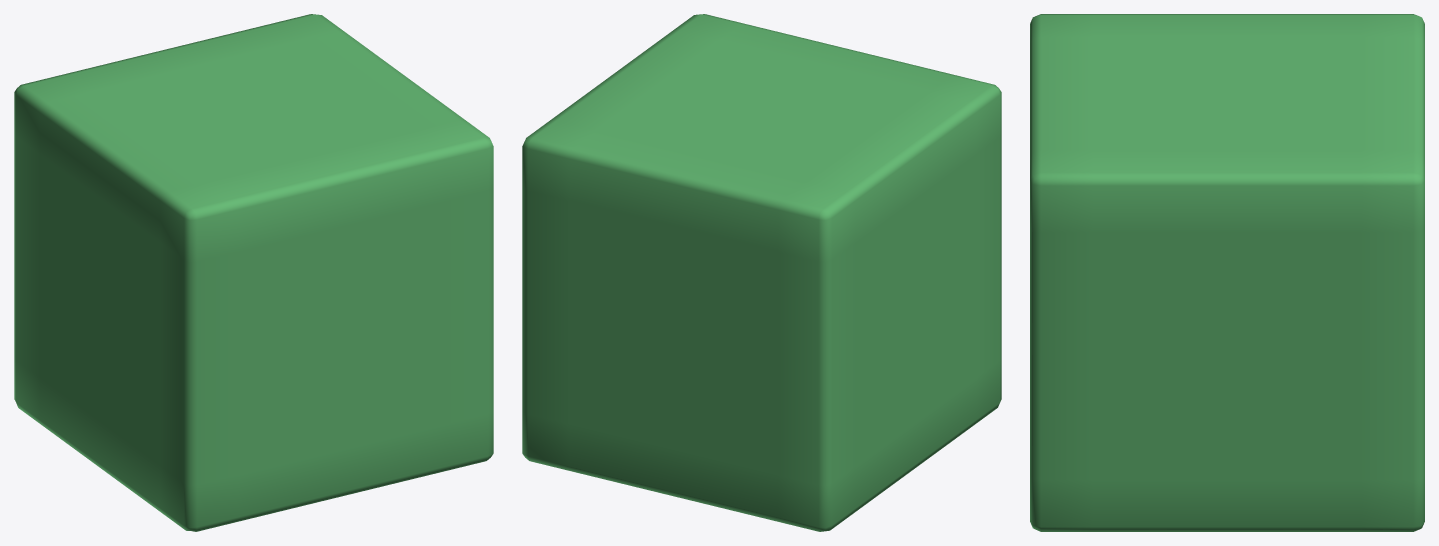
The model's file is CubeTest2.FBX.
3 renders of one model, left to right at view 1: azimuth 30°, elevation 25°; view 2: azimuth 150°, elevation 25°; view 3: azimuth 270°, elevation 25°, orthographic. The views are drawn at different scales.
Parts seen in each view (by area): view 1: Box003; view 2: Box003; view 3: Box003.
Part boxes in pixels (box(x1,y1,x2,y2)): Box003: box(14, 14, 493, 531); Box003: box(522, 14, 1001, 531); Box003: box(1030, 14, 1424, 531).
Size of the model in its own units: 50 by 50 by 50.
